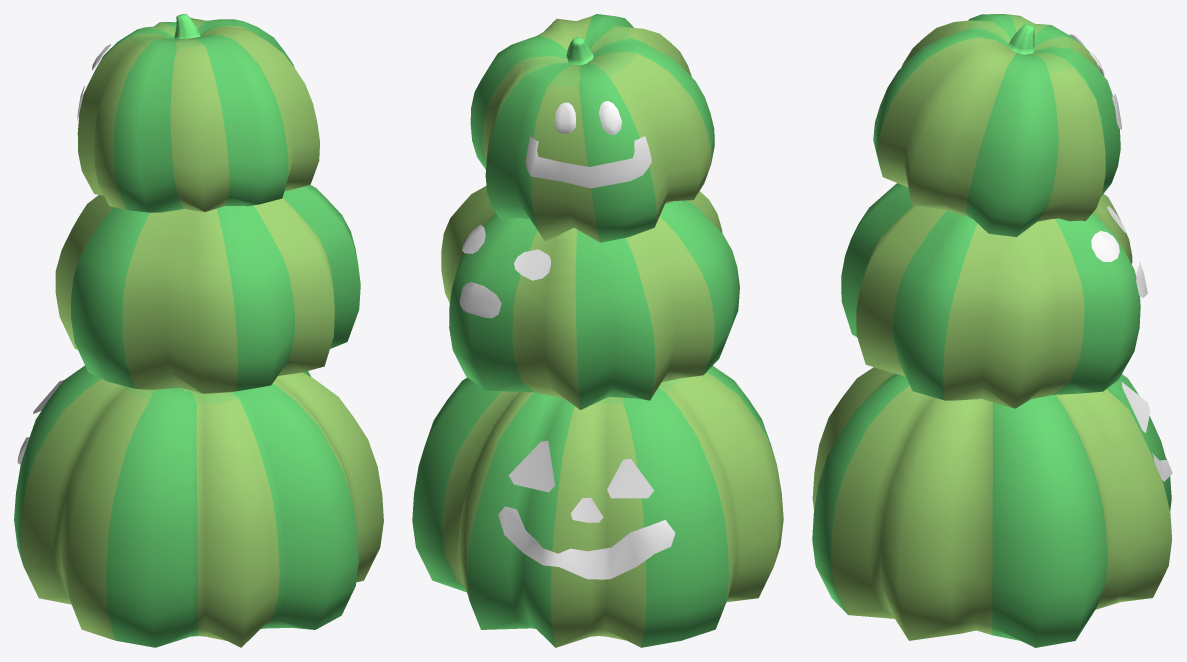
The model's file is Pumpkin Stack.fbx.
3 views of the same model, side by side, from view 1: azimuth 30°, elevation 25°; view 2: azimuth 150°, elevation 25°; view 3: azimuth 270°, elevation 25° (orthographic).
Visible parts, largest first — view 1: Cube_001, Cube_002, Cube_003; view 2: Cube_001, Cube_002, Cube_003, Cube_004, Cube_006, Cube_005; view 3: Cube_001, Cube_002, Cube_003, Cube_005, Cube_004.
Boxes of the visible parts, x1,y1,x2,y2 form: Cube_001: (14, 365, 383, 647); Cube_002: (55, 184, 360, 393); Cube_003: (77, 14, 319, 212); Cube_001: (412, 366, 783, 647); Cube_002: (441, 186, 739, 409); Cube_003: (470, 14, 714, 242); Cube_004: (498, 440, 675, 579); Cube_006: (525, 101, 651, 188); Cube_005: (459, 225, 550, 318); Cube_001: (812, 367, 1171, 647); Cube_002: (841, 183, 1140, 408); Cube_003: (873, 14, 1120, 236); Cube_005: (1091, 206, 1147, 297); Cube_004: (1122, 382, 1172, 481).
Bounding box in the file's own units: 54.56 × 95.06 × 54.71.
